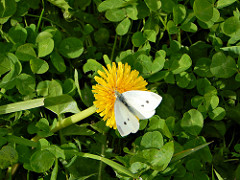dandelion yellow: (90, 60, 152, 133)
